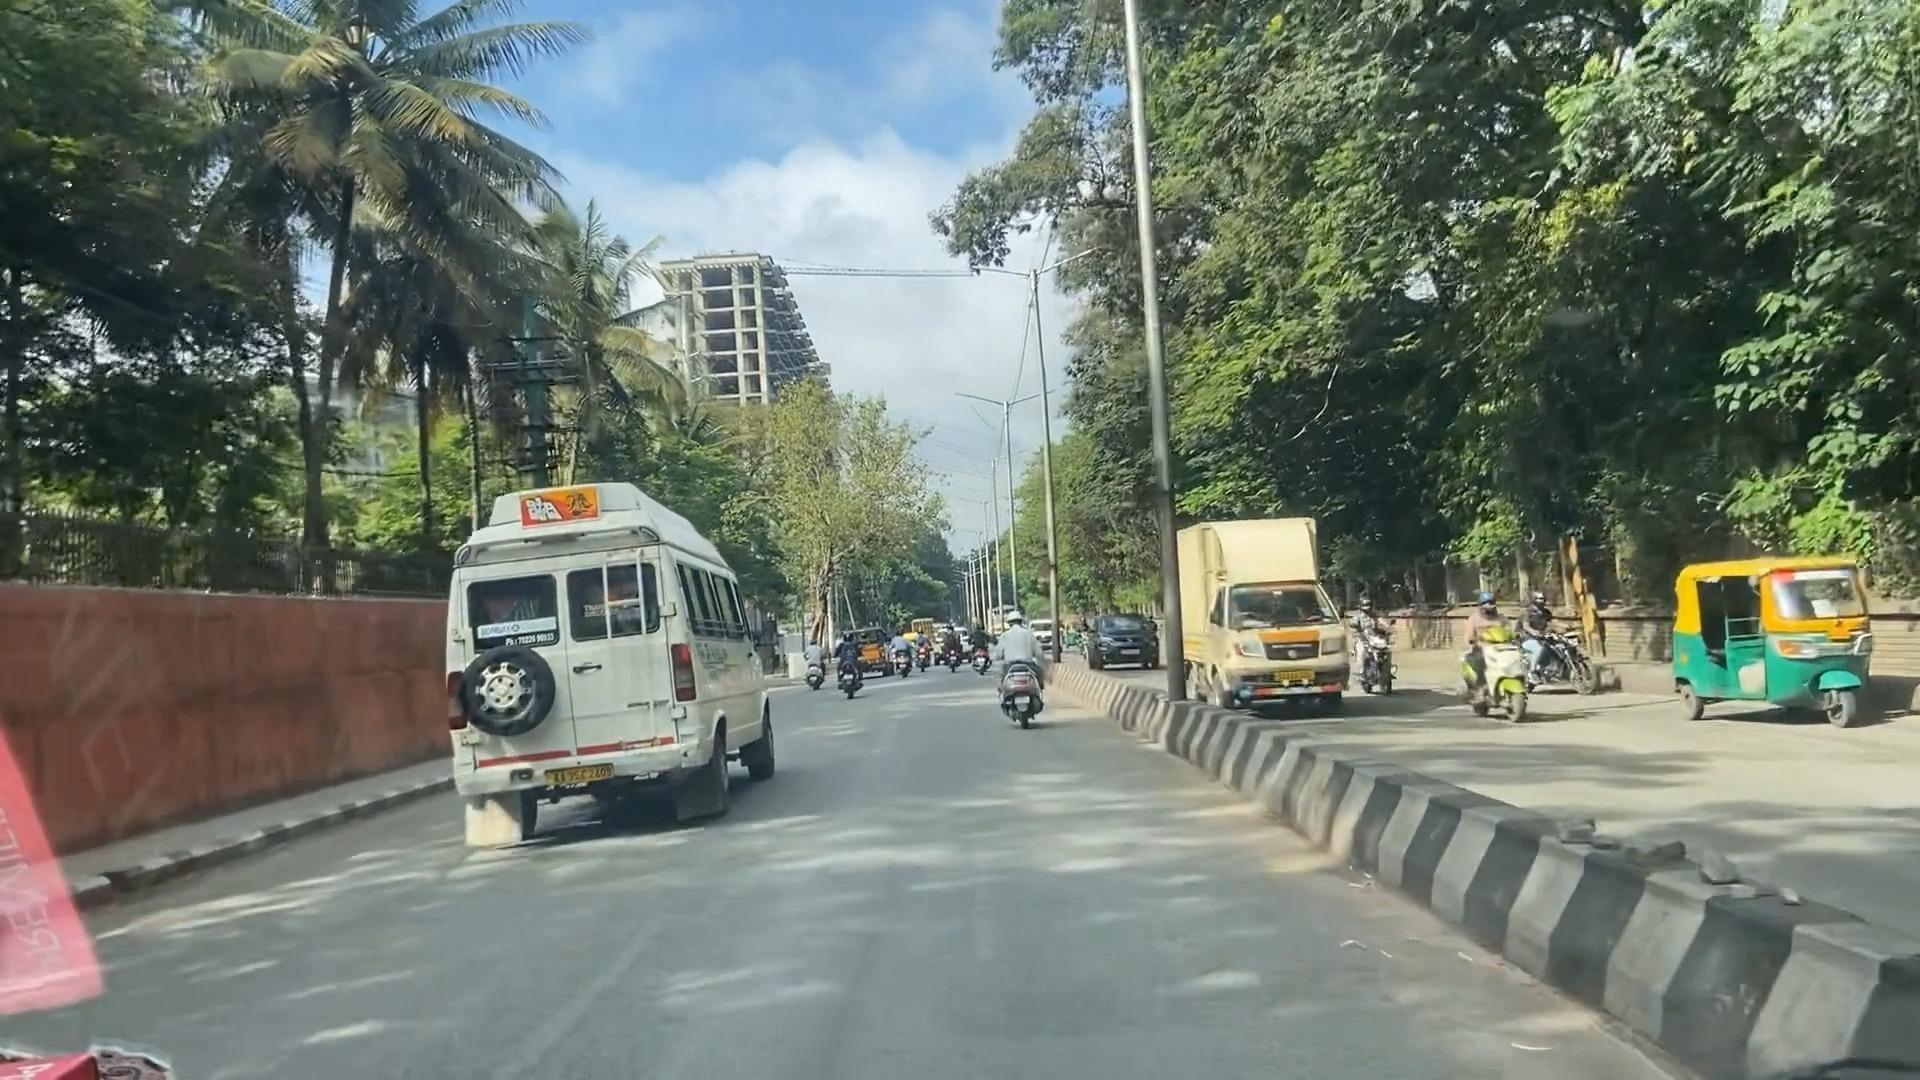HMV: (404, 493, 767, 823)
